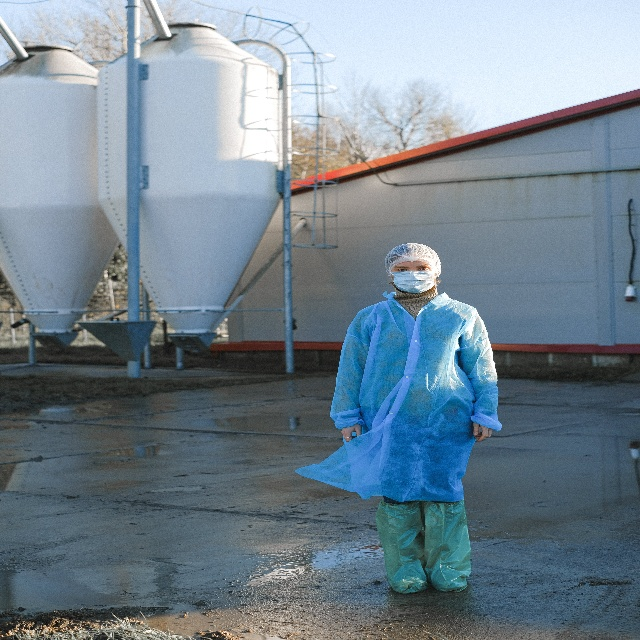Mascara: (390, 267, 436, 293)
Sin_guantes: (473, 421, 493, 444), (340, 423, 362, 443)
